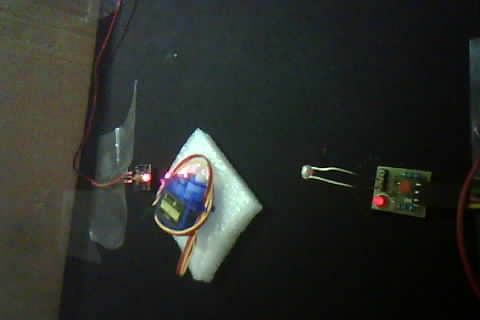motor: (149, 133, 240, 278)
